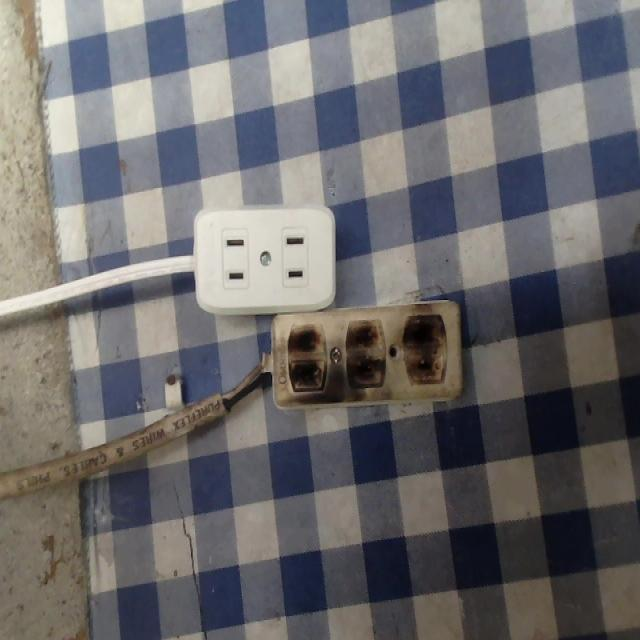-: (339, 316, 396, 409), (281, 315, 329, 412), (404, 311, 451, 388)
